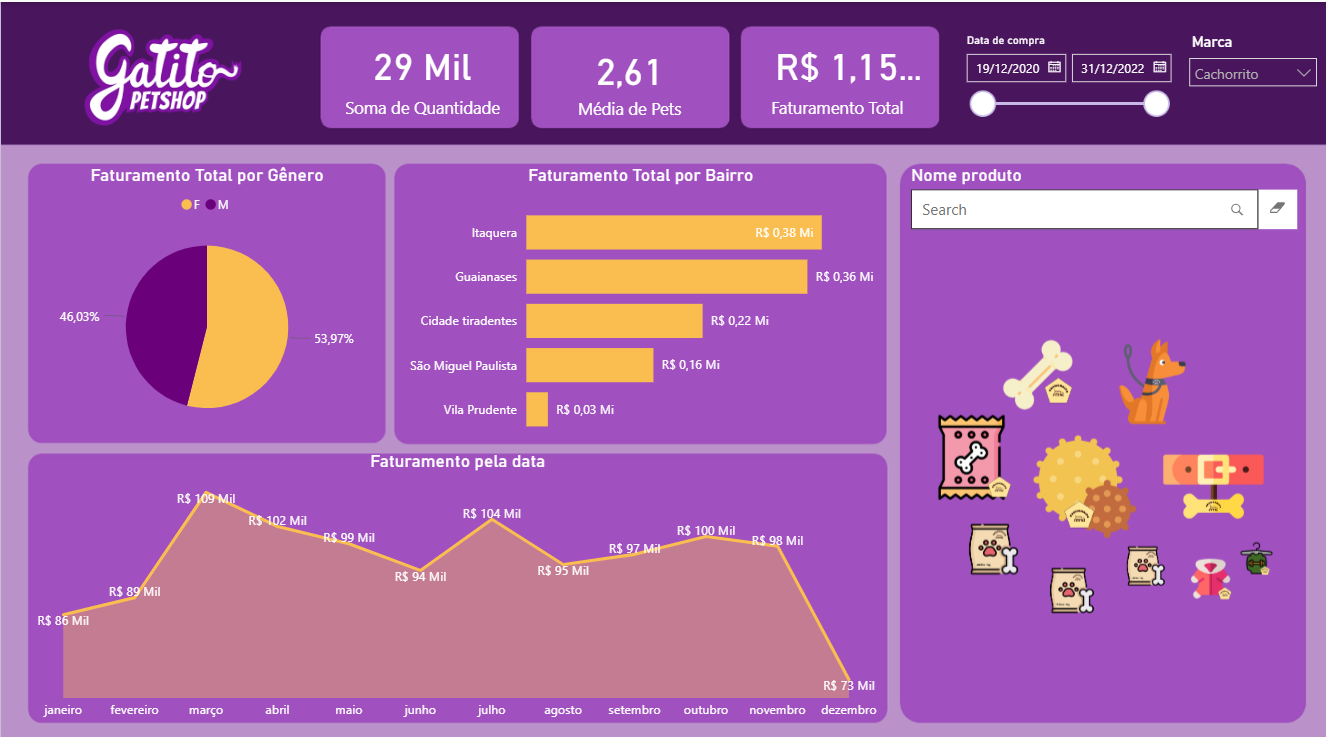

What the dashboard file says about the page in this screenshot:
{"tool":"powerbi","page":{"name":"Página 1","canvas":[1280,720],"ordinal":0},"visuals":[{"type":"card","fields":{"Values":["Avg(Clientes.Pets)"]},"box":[504.9,25.5,202.9,99.2],"z":0},{"type":"cardVisual","fields":{"Data":["select","Sum(Vendas.Quantidade)"]},"box":[308.8,25.3,196.6,98.9],"z":1000},{"type":"cardVisual","fields":{"Data":["Vendas.Faturamento Total"]},"box":[707.8,25.5,198.4,99.2],"z":2000},{"type":"pieChart","fields":{"Category":["Clientes.Gênero"],"Y":["Vendas.Faturamento Total"]},"box":[27.7,156.8,342.6,266.6],"z":3000},{"type":"clusteredBarChart","fields":{"Category":["Clientes.Bairro"],"Y":["Vendas.Faturamento Total"]},"box":[381.2,156.8,472.9,276.3],"z":4000},{"type":"areaChart","title":"Faturamento pela data","fields":{"Category":["Vendas.Data de compra.Variation.Hierarquia de datas.Ano","Vendas.Data de compra.Variation.Hierarquia de datas.Trimestre","Vendas.Data de compra.Variation.Hierarquia de datas.Mês","Vendas.Data de compra.Variation.Hierarquia de datas.Dia"],"Y":["Vendas.Faturamento Total"]},"box":[27.7,433.1,826.4,267.8],"z":5000},{"type":"ImageGrid_FC5183B9_926C_45E0_B5F7_0CE9EAF1DA9B","fields":{"ImageURL":["Produtos.Url img"]},"box":[863.8,225.6,392.1,466.9],"z":6000},{"type":"textFilter25A4896A83E0487089E2B90C9AE57C8A","fields":{"field":["Produtos.Nome produto"]},"box":[873.5,156.8,382.4,68.8],"z":7000},{"type":"slicer","fields":{"Values":["Produtos.Marca"]},"box":[1136.5,25.3,143.6,64],"z":8000},{"type":"slicer","fields":{"Values":["Vendas.Data de compra"]},"box":[919.3,25.3,217.2,98.9],"z":9000}]}

Visuals, with their boxes in screenshot pixels (x1, y1, x2, y2), scaled from the page's 1280x720 canvas onto the 1326x737 screenshot:
card - Avg(Clientes.Pets): (523,26,733,128)
cardVisual - select x Sum(Vendas.Quantidade): (320,26,524,127)
cardVisual - Vendas.Faturamento Total: (733,26,939,128)
pieChart - Clientes.Gênero x Vendas.Faturamento Total: (29,161,384,433)
clusteredBarChart - Clientes.Bairro x Vendas.Faturamento Total: (395,161,885,443)
"Faturamento pela data" areaChart: (29,443,885,717)
ImageGrid_FC5183B9_926C_45E0_B5F7_0CE9EAF1DA9B - Produtos.Url img: (895,231,1301,709)
textFilter25A4896A83E0487089E2B90C9AE57C8A - Produtos.Nome produto: (905,161,1301,231)
slicer - Produtos.Marca: (1177,26,1325,91)
slicer - Vendas.Data de compra: (952,26,1177,127)
